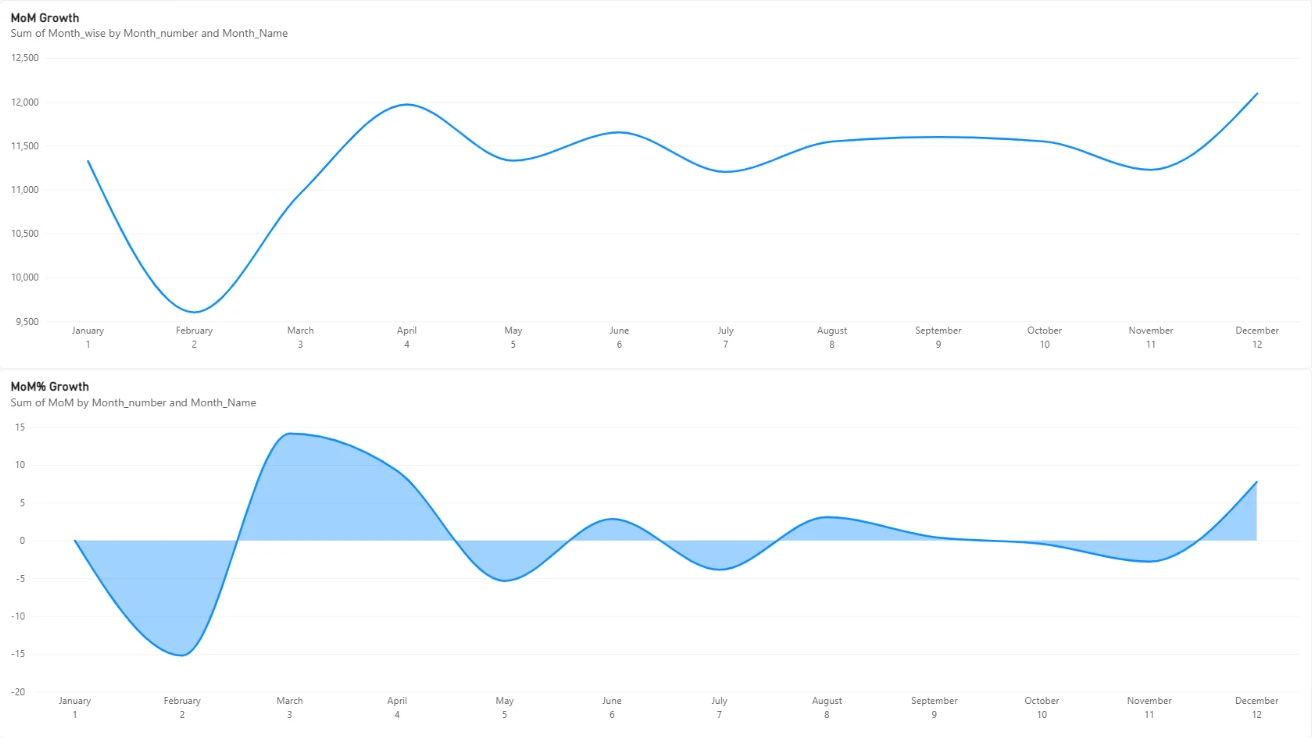

This screenshot's page, from the dashboard's own definition file:
{"tool":"powerbi","page":{"name":"Page 3","canvas":[1920,1080],"ordinal":2},"visuals":[{"type":"areaChart","title":"MoM% Growth","fields":{"Category":["MOM_ grow final.Month_number","MOM_ grow final.Month_Name"],"Y":["Sum(MOM_ grow final.MoM)"]},"box":[0,539.4,1919.7,541.3],"z":0},{"type":"lineChart","title":"MoM Growth","fields":{"Category":["MOM_ grow final.Month_number","MOM_ grow final.Month_Name"],"Y":["Sum(MOM_ grow final.Month_wise)"]},"box":[0,0,1919.7,539.4],"z":1}]}

Visuals, with their boxes in screenshot pixels (x1, y1, x2, y2), scaled from the page's 1920x1080 canvas onto the 1312x738 screenshot:
"MoM% Growth" areaChart: box=[0, 369, 1311, 737]
"MoM Growth" lineChart: box=[0, 0, 1311, 369]
